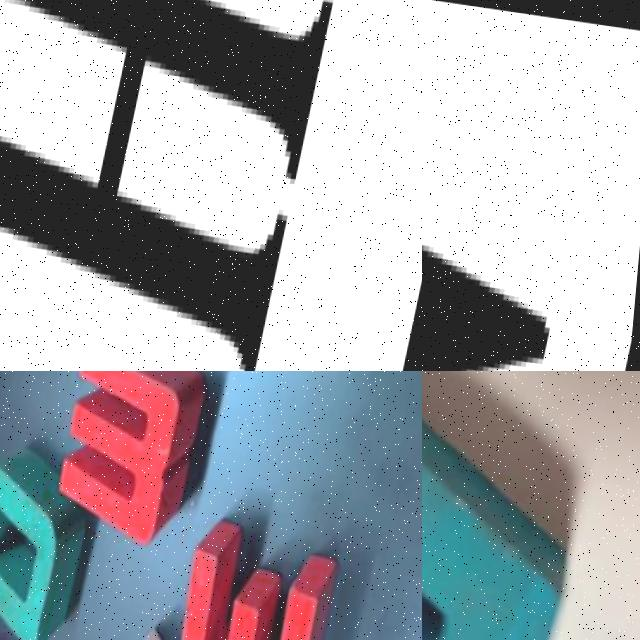D: (0, 454, 103, 640)
E: (171, 511, 354, 640)
H: (0, 0, 335, 371)
V: (422, 8, 606, 371), (422, 371, 612, 640)
W: (55, 371, 222, 540)
